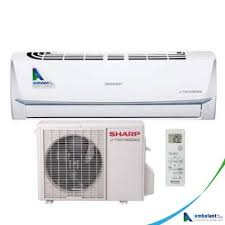ac: (6, 47, 219, 122)
